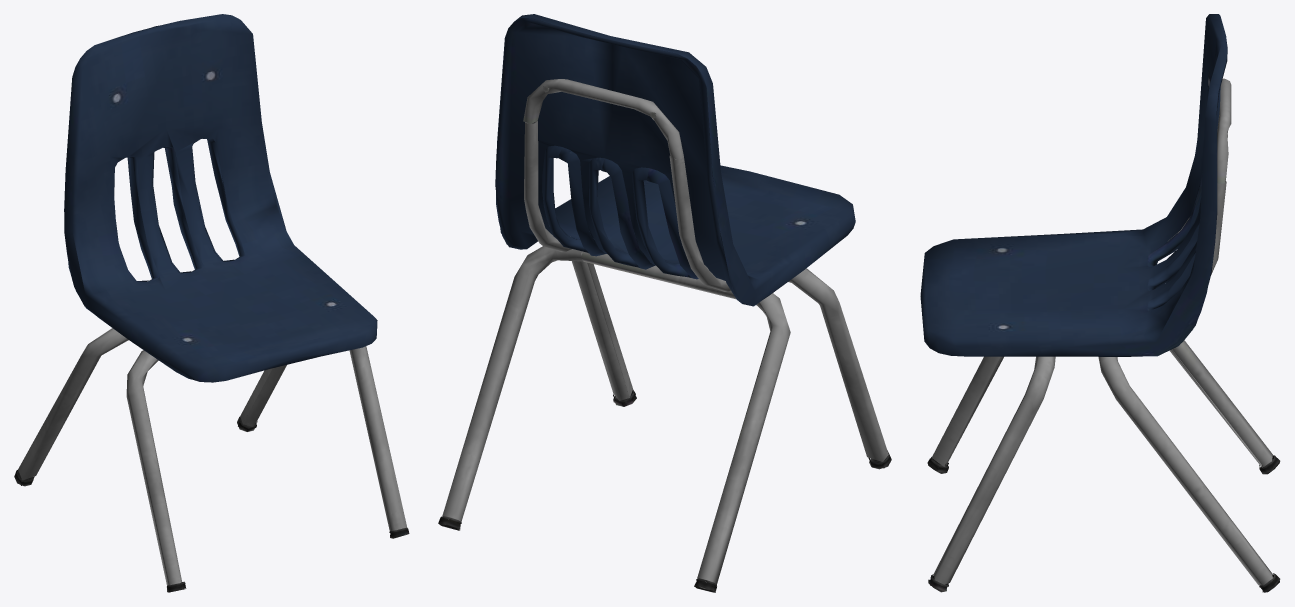
Rendered from schoolchair_01.glb.
3 views of the same model, side by side, from view 1: azimuth 30°, elevation 25°; view 2: azimuth 150°, elevation 25°; view 3: azimuth 270°, elevation 25° (orthographic). The views are drawn at different scales.
Parts seen in each view (by area): view 1: SchoolChair_01; view 2: SchoolChair_01; view 3: SchoolChair_01.
Part boxes in pixels (bbox=[...]): SchoolChair_01: bbox=[14, 14, 409, 592]; SchoolChair_01: bbox=[438, 14, 891, 592]; SchoolChair_01: bbox=[920, 14, 1280, 592].
Size of the model in its own units: 0.5668 by 1.01 by 0.6784.
Materials: 1 (1 with a texture image).
